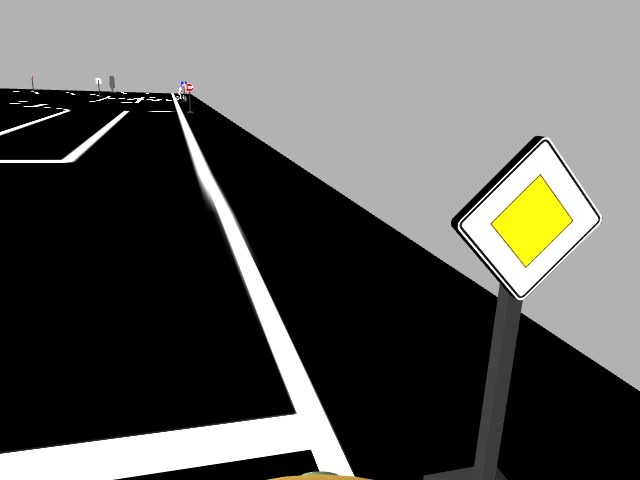Priority: (449, 134, 601, 303)
